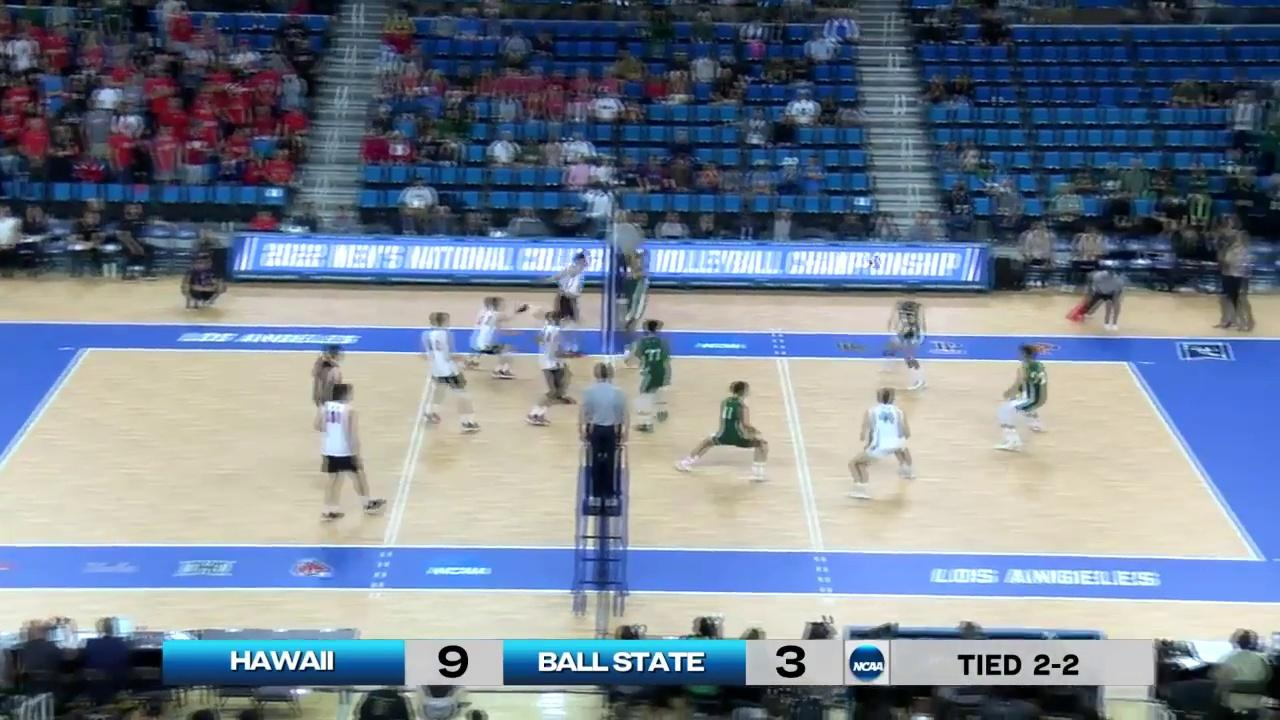player: (312, 380, 382, 521), (678, 379, 769, 478), (847, 385, 915, 502), (418, 312, 480, 432), (521, 250, 588, 355), (527, 311, 578, 428), (996, 345, 1049, 450), (627, 323, 672, 435), (312, 342, 355, 457), (470, 296, 527, 379), (883, 289, 927, 387), (623, 255, 651, 359)
refree: (576, 364, 628, 503), (1071, 268, 1128, 330)
